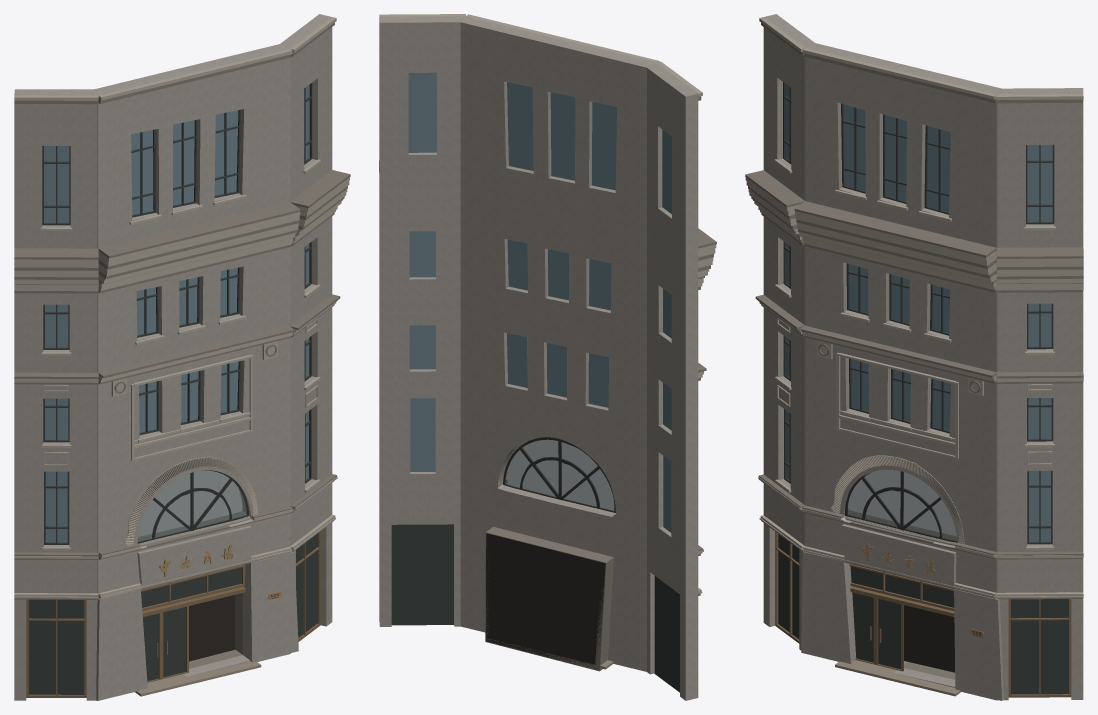
File: huangpu-central-emporium-nanjing-road-chamfer-lod.glb
The picture shows the model from 3 angles, left to right: view 1: azimuth 30°, elevation 25°; view 2: azimuth 150°, elevation 25°; view 3: azimuth 330°, elevation 25°; orthographic projection.
Visible parts, largest first — view 1: 中央商场折角入口、扇灯与三层街窗; view 2: 中央商场折角入口、扇灯与三层街窗; view 3: 中央商场折角入口、扇灯与三层街窗.
Part boxes in pixels (x1,y1,x2,y2): 中央商场折角入口、扇灯与三层街窗: (14,14,350,700); 中央商场折角入口、扇灯与三层街窗: (379,14,716,700); 中央商场折角入口、扇灯与三层街窗: (745,14,1083,700).
Size of the model in its own units: 11.21 by 19.33 by 2.25.
Materials: 17 (1 with a texture image).
